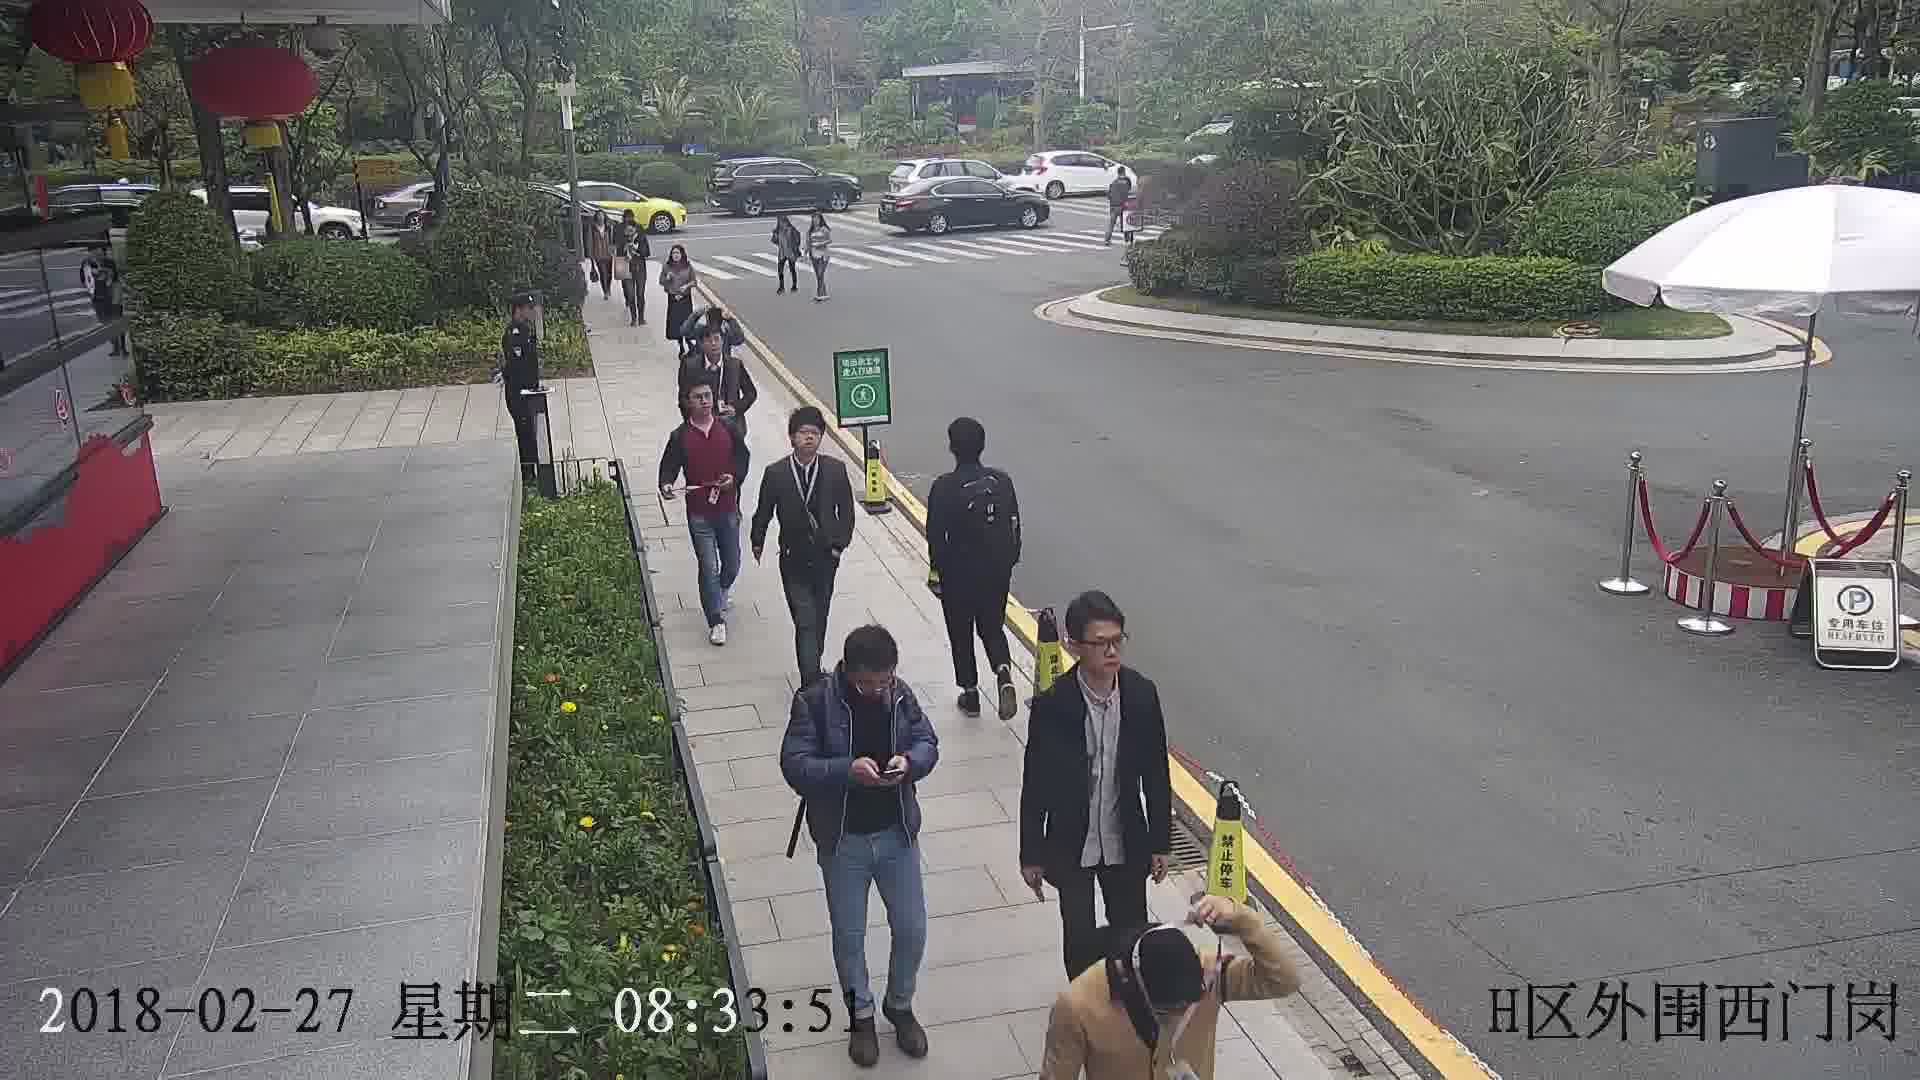face: (1072, 619, 1131, 678), (785, 421, 823, 461)
person: (1056, 923, 1218, 1049), (1028, 584, 1165, 727), (791, 622, 924, 733), (763, 404, 851, 492), (930, 412, 1018, 496), (673, 376, 732, 445), (684, 319, 745, 376), (500, 291, 540, 352), (608, 200, 653, 238), (662, 242, 695, 275), (586, 202, 615, 238), (622, 218, 649, 253), (1103, 166, 1130, 198), (804, 209, 834, 234), (767, 211, 799, 233)
